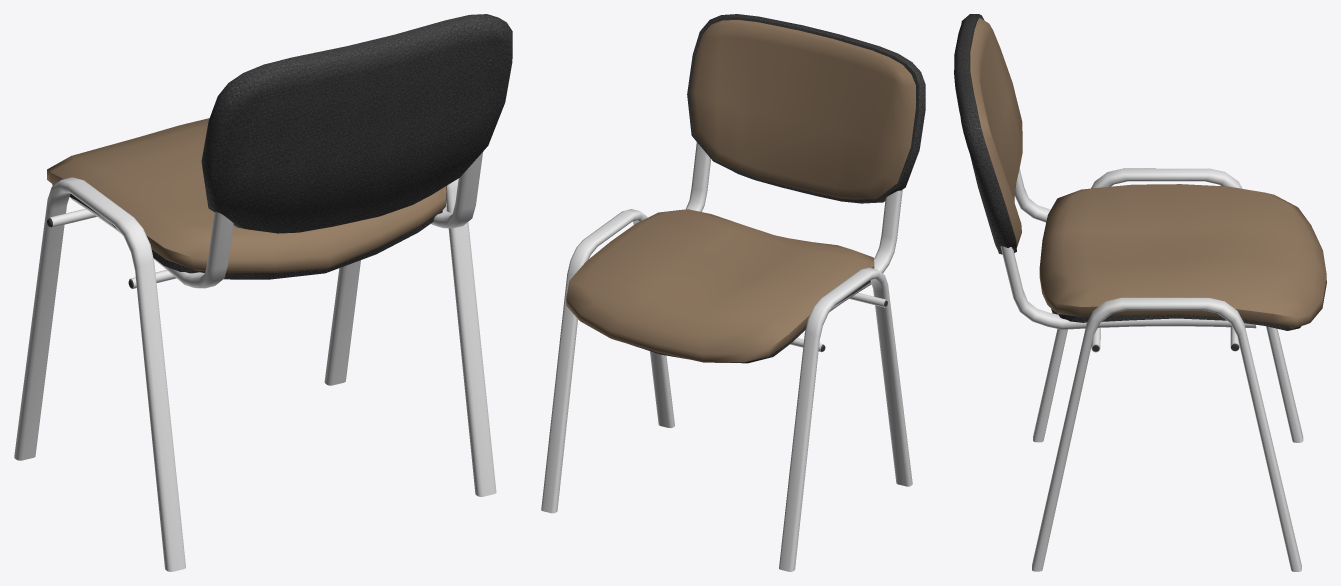
The model's file is Chair4.fbx.
3 renders of one model, left to right at view 1: azimuth 30°, elevation 25°; view 2: azimuth 150°, elevation 25°; view 3: azimuth 270°, elevation 25°, orthographic. The views are drawn at different scales.
Parts seen in each view (by area): view 1: spinka_plastic3_2_0, BezierCurve.003_metall_0, sidushka.001_tkan_0, BezierCurve.004_metall_0, sidushka_plastic3_2_0; view 2: spinka.001_tkan_0, sidushka.001_tkan_0, BezierCurve.003_metall_0, spinka_plastic3_2_0, BezierCurve.004_metall_0; view 3: sidushka.001_tkan_0, BezierCurve.003_metall_0, spinka.001_tkan_0, spinka_plastic3_2_0, BezierCurve.004_metall_0, sidushka_plastic3_2_0.
Boxes of the visible parts, x1,y1,x2,y2 form: spinka_plastic3_2_0: [201, 14, 512, 233]; BezierCurve.003_metall_0: [14, 177, 496, 571]; sidushka.001_tkan_0: [47, 118, 446, 273]; BezierCurve.004_metall_0: [71, 152, 482, 288]; sidushka_plastic3_2_0: [52, 184, 442, 279]; spinka.001_tkan_0: [690, 20, 915, 199]; sidushka.001_tkan_0: [566, 209, 874, 362]; BezierCurve.003_metall_0: [541, 209, 912, 571]; spinka_plastic3_2_0: [687, 14, 925, 203]; BezierCurve.004_metall_0: [686, 142, 902, 311]; sidushka.001_tkan_0: [1039, 184, 1326, 328]; BezierCurve.003_metall_0: [1032, 168, 1303, 571]; spinka.001_tkan_0: [970, 18, 1022, 247]; spinka_plastic3_2_0: [954, 14, 1016, 254]; BezierCurve.004_metall_0: [1000, 169, 1256, 329]; sidushka_plastic3_2_0: [1051, 308, 1301, 330].
Bounding box in the file's own units: 413 × 615 × 468.
